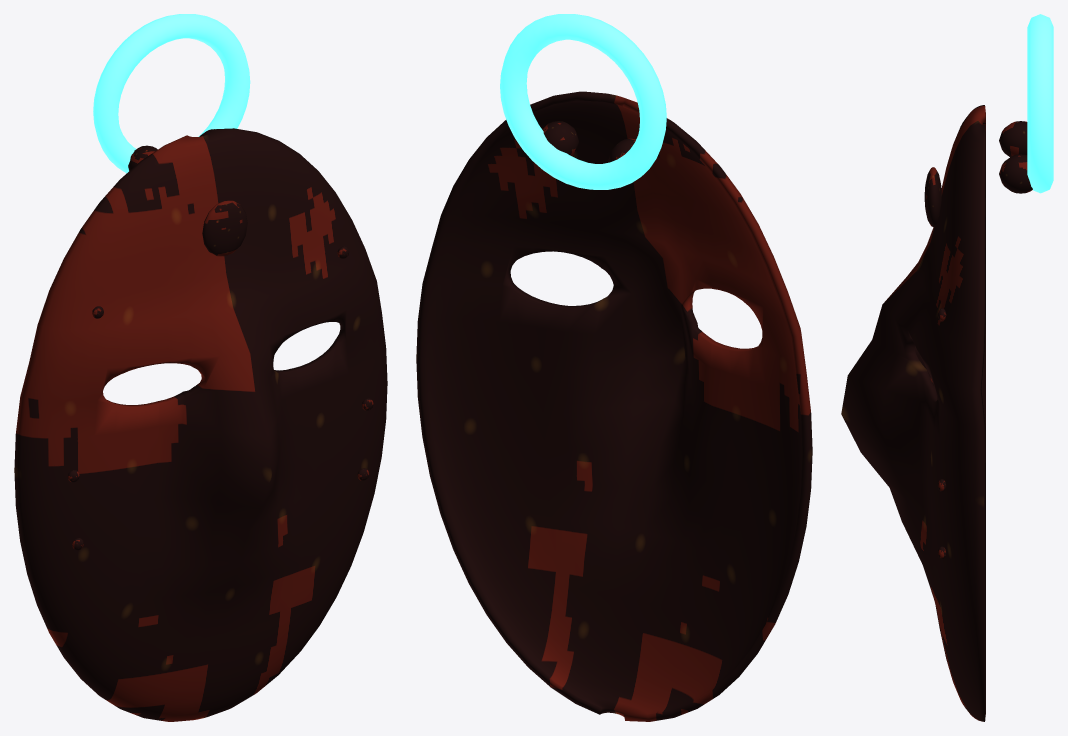
Rendered from mask_pattern_cinnabar.fbx.
The picture shows the model from 3 angles, left to right: view 1: azimuth 30°, elevation 25°; view 2: azimuth 150°, elevation 25°; view 3: azimuth 270°, elevation 25°; orthographic projection. The views are drawn at different scales.
Parts seen in each view (by area): view 1: TH_S_Mask_Face, TH_S_Mask_Handle, TH_S_Mask_BrowSeal; view 2: TH_S_Mask_Face, TH_S_Mask_Handle, TH_S_Mask_HandleMount.001; view 3: TH_S_Mask_Face, TH_S_Mask_Handle, TH_S_Mask_HandleMount.001, TH_S_Mask_HandleMount, TH_S_Mask_BrowSeal.
Boxes of the visible parts, x1=… form: TH_S_Mask_Face: x1=14, y1=128, x2=387, y2=721; TH_S_Mask_Handle: x1=93, y1=14, x2=250, y2=173; TH_S_Mask_BrowSeal: x1=202, y1=200, x2=247, y2=256; TH_S_Mask_Face: x1=416, y1=91, x2=812, y2=721; TH_S_Mask_Handle: x1=500, y1=14, x2=666, y2=189; TH_S_Mask_HandleMount.001: x1=542, y1=121, x2=578, y2=155; TH_S_Mask_Face: x1=841, y1=105, x2=985, y2=721; TH_S_Mask_Handle: x1=1027, y1=14, x2=1053, y2=193; TH_S_Mask_HandleMount.001: x1=999, y1=154, x2=1032, y2=193; TH_S_Mask_HandleMount: x1=999, y1=121, x2=1027, y2=156; TH_S_Mask_BrowSeal: x1=924, y1=167, x2=941, y2=226.
Size of the model in its own units: 0.1968 by 0.3452 by 0.097.
2 materials, 1 textured.
